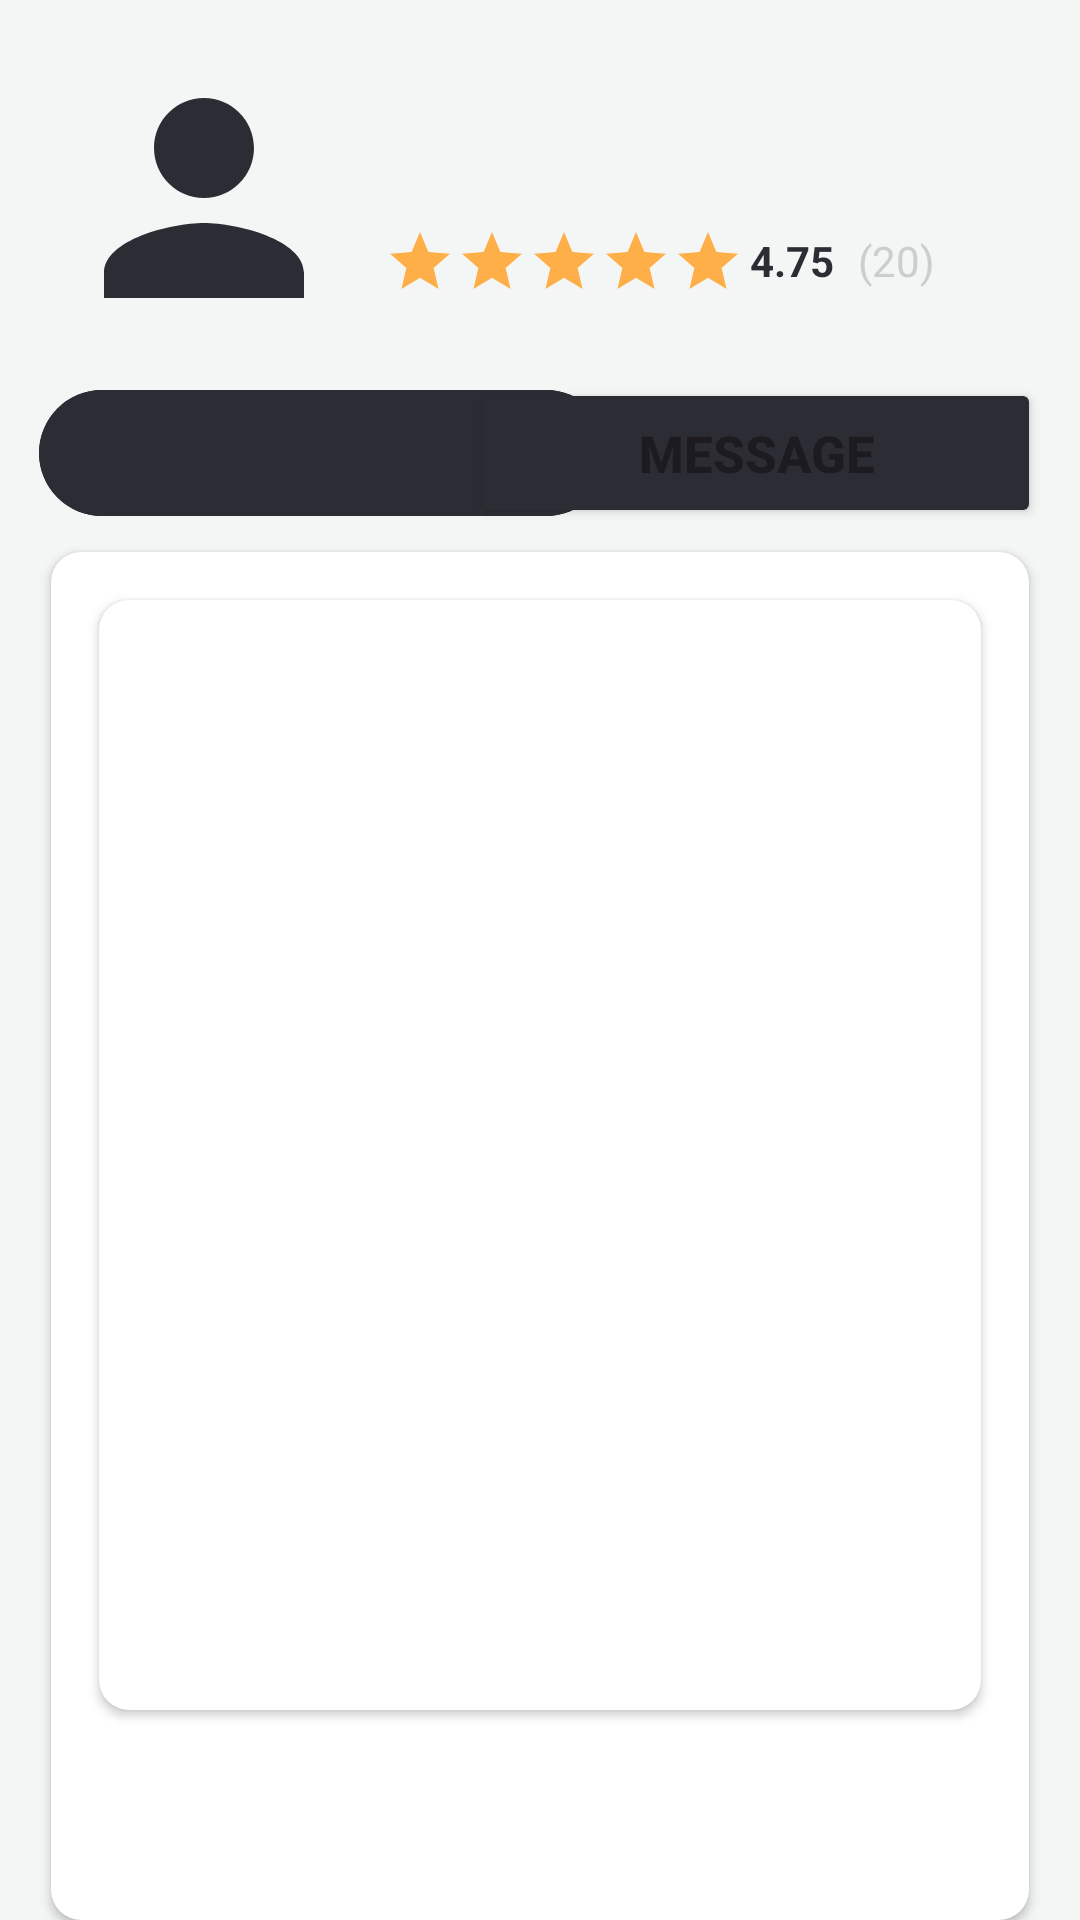

Screen size 1080px×1920px. Icon name, then its box in pixels as (x1, y1, x2, y2):
star: (390, 232, 450, 289), (462, 232, 522, 289), (534, 232, 594, 289), (606, 232, 666, 289), (678, 232, 738, 289)
